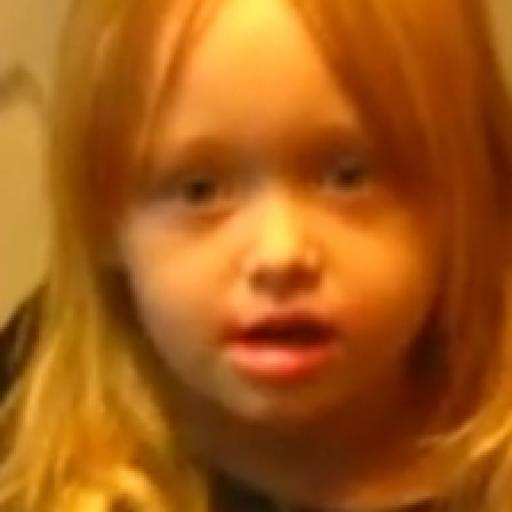Autism: (30, 40, 512, 498)
